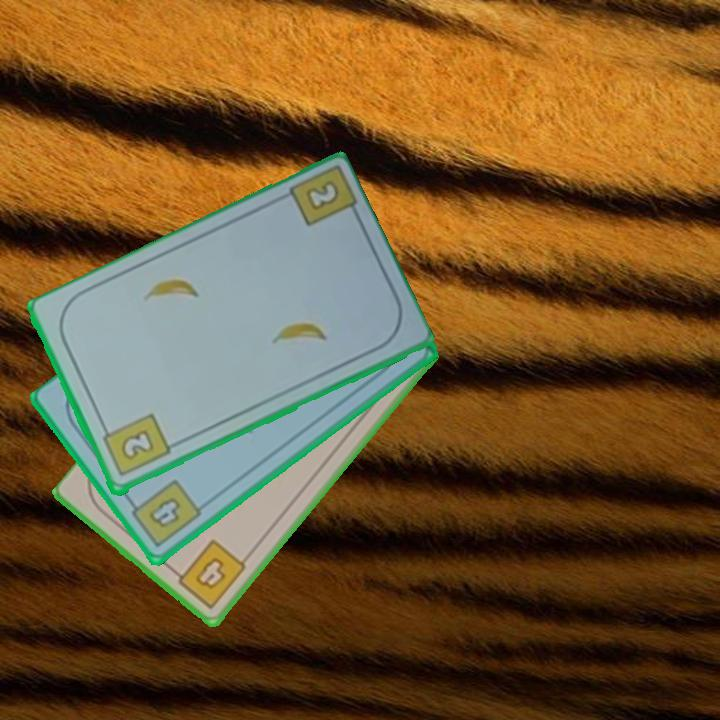2b: (98, 410, 173, 480), (302, 177, 342, 215)
4b: (168, 535, 250, 612), (124, 476, 205, 551)
